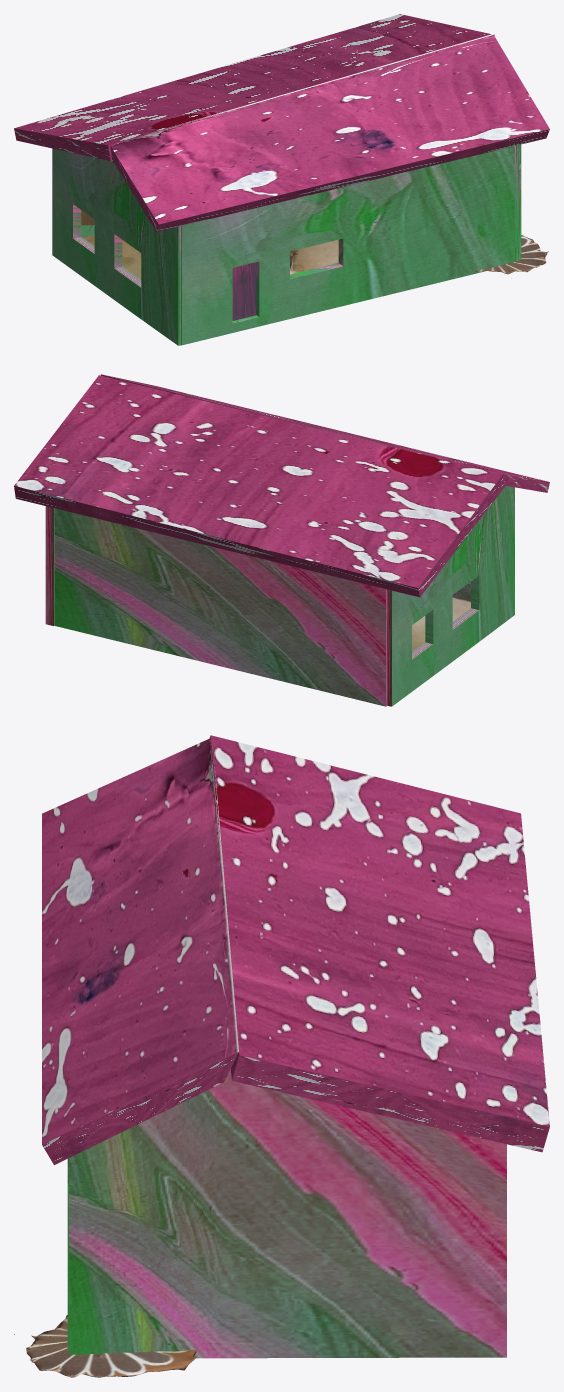
Rendered from haus_01.fbx.
3 renders of one model, top to bottom at view 1: azimuth 30°, elevation 25°; view 2: azimuth 150°, elevation 25°; view 3: azimuth 270°, elevation 25°, orthographic. The views are drawn at different scales.
Visible parts, largest first — view 1: dach_01, Cube, dach_01.001, Cube.003, Dusche, Tuer, Cube.002; view 2: dach_01.001, Cube.001, Cube.003, dach_01, Cube.002, Dusche; view 3: Cube.002, dach_01.001, dach_01, Dusche.
Part boxes in pixels (bbox=[...]): dach_01: bbox=[110, 34, 549, 231]; Cube: bbox=[181, 146, 514, 345]; dach_01.001: bbox=[14, 14, 494, 161]; Cube.003: bbox=[52, 148, 180, 345]; Dusche: bbox=[81, 210, 548, 279]; Tuer: bbox=[232, 262, 256, 320]; Cube.002: bbox=[514, 144, 521, 261]; dach_01.001: bbox=[14, 375, 504, 597]; Cube.001: bbox=[54, 508, 387, 706]; Cube.003: bbox=[387, 485, 514, 706]; dach_01: bbox=[100, 374, 549, 492]; Cube.002: bbox=[45, 506, 54, 625]; Dusche: bbox=[412, 597, 470, 651]; Cube.002: bbox=[69, 1069, 506, 1358]; dach_01.001: bbox=[210, 735, 549, 1152]; dach_01: bbox=[42, 738, 238, 1164]; Dusche: bbox=[14, 1315, 197, 1377].
Bounding box in the file's own units: 15.2 × 6.81 × 10.04.
